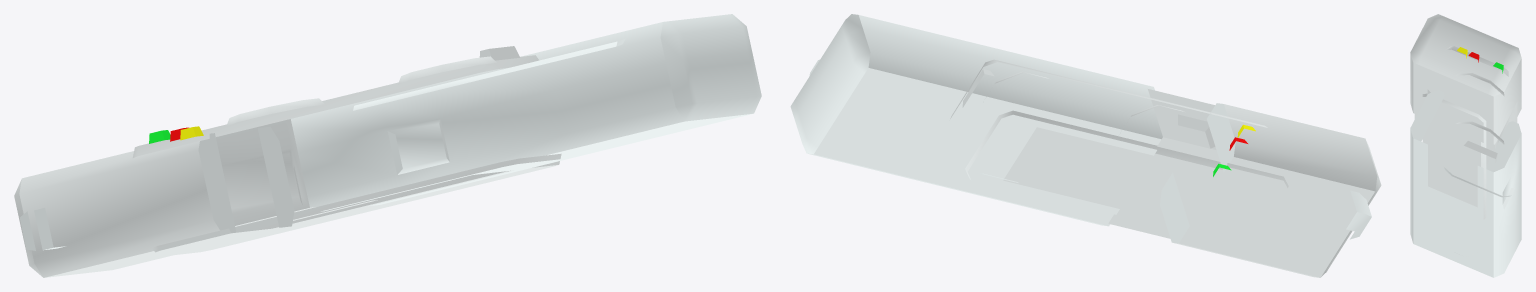
The model's file is ps2_save-icons_scandal-systemdata.glb.
3 views of the same model, side by side, from view 1: azimuth 30°, elevation 25°; view 2: azimuth 150°, elevation 25°; view 3: azimuth 270°, elevation 25° (orthographic). The views are drawn at different scales.
Parts seen in each view (by area): view 1: minox.ico; view 2: minox.ico; view 3: minox.ico.
Part boxes in pixels (x1=…): minox.ico: x1=14, y1=14, x2=761, y2=277; minox.ico: x1=790, y1=14, x2=1381, y2=277; minox.ico: x1=1410, y1=14, x2=1521, y2=277.
Bounding box in the file's own units: 4.76 × 0.9365 × 1.14.
Materials: 1 (1 with a texture image).
